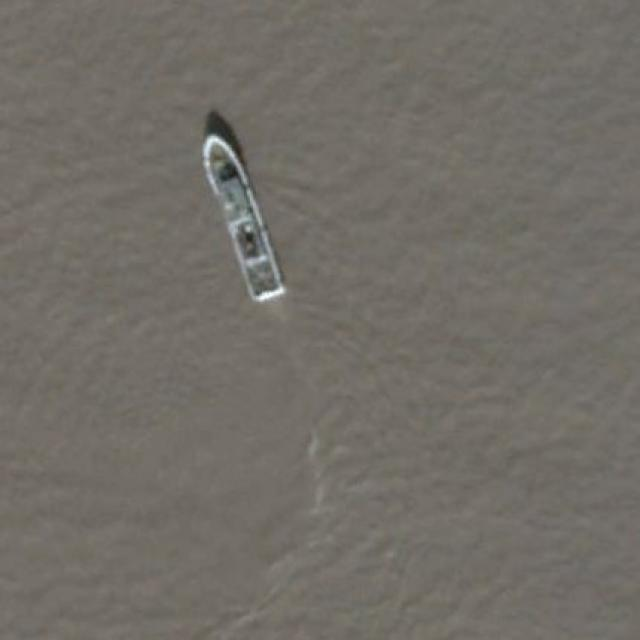boat: (200, 132, 288, 304)
